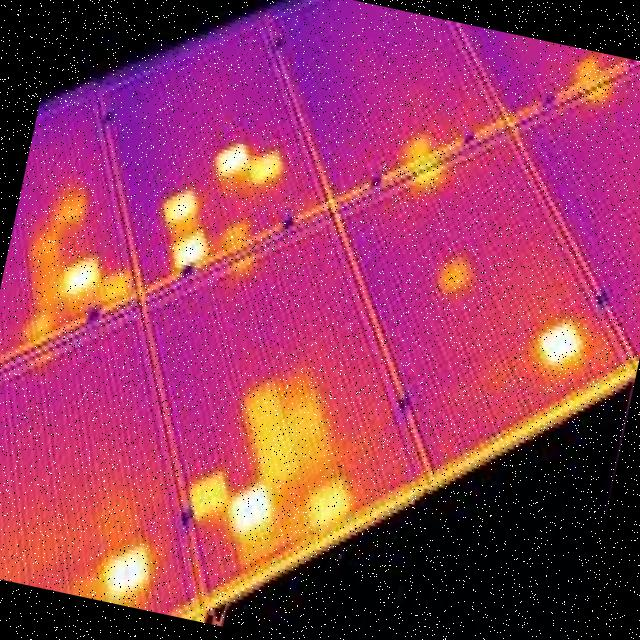Hotspot: (228, 362, 342, 497), (5, 206, 84, 348), (140, 167, 224, 286), (205, 122, 294, 205), (522, 295, 592, 379), (299, 464, 366, 548), (222, 470, 279, 555), (97, 524, 159, 602), (429, 235, 486, 312), (184, 441, 233, 524), (92, 248, 142, 328), (56, 240, 105, 307), (215, 207, 258, 265), (396, 117, 438, 171), (569, 47, 600, 82)
